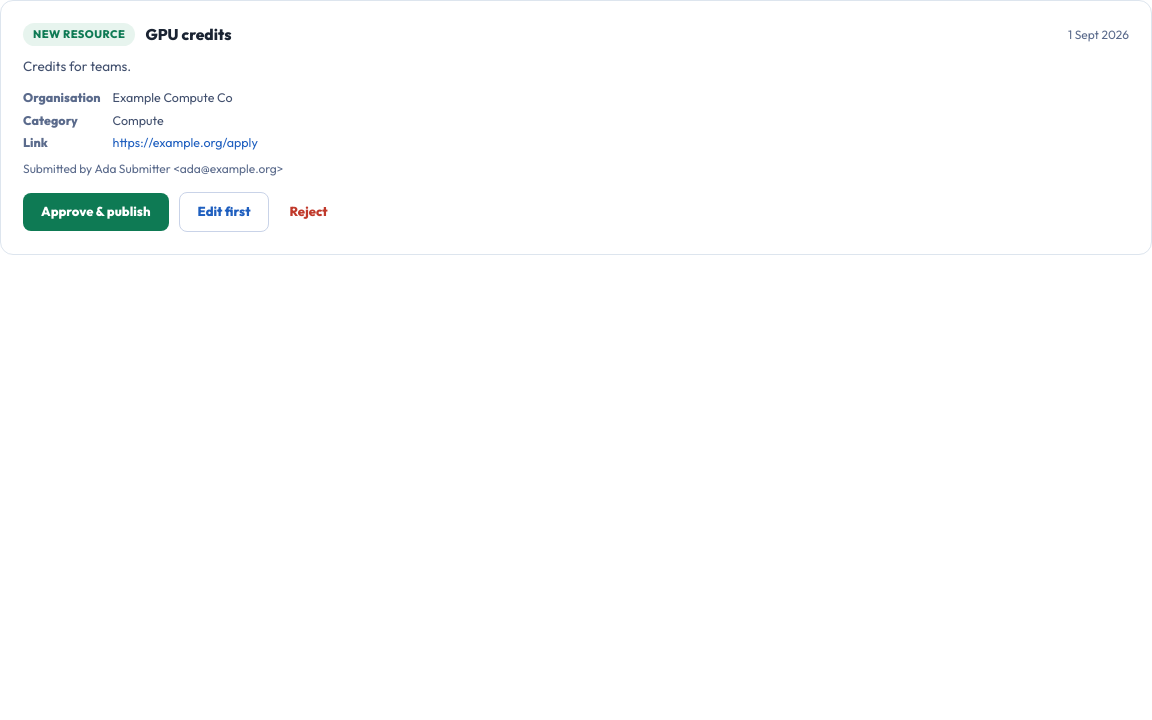
Test: ReviewCard › saving the Edit first form creates the resource from the submission and closes the dialog
Click the button "Edit first".
click(224, 212)  # box 179,192 -> 270,232
(page scrolled)
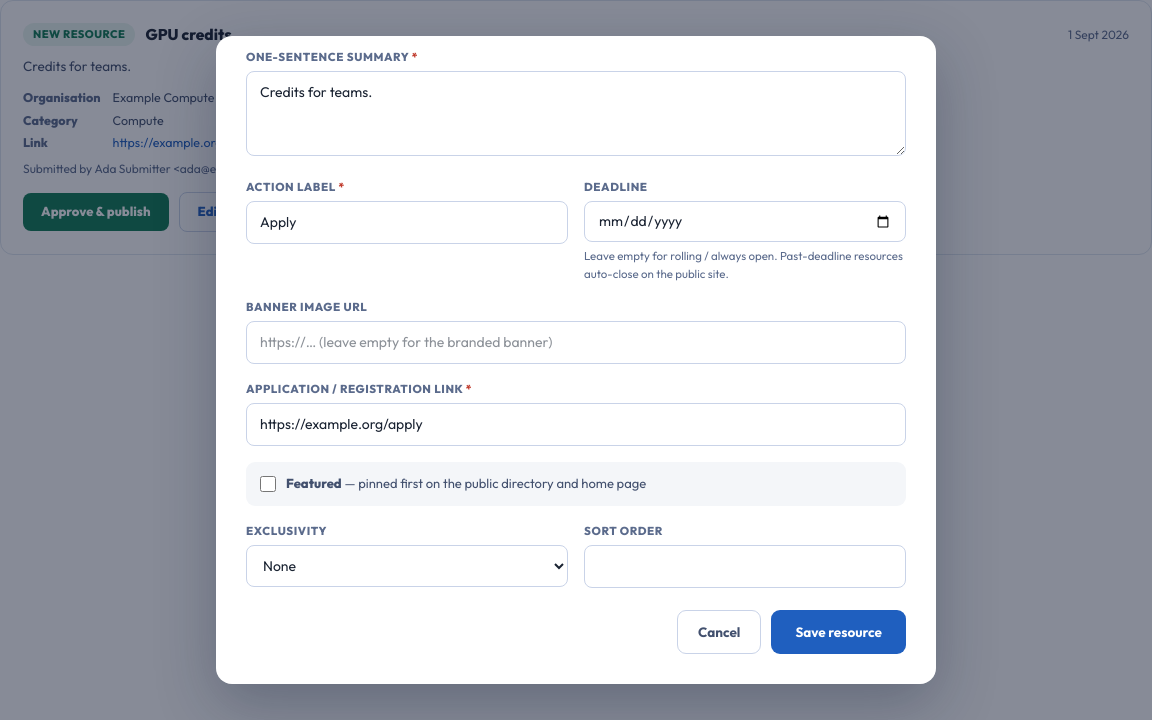
Click the button "Save resource".
click(839, 632)  # box 771,610 -> 906,654
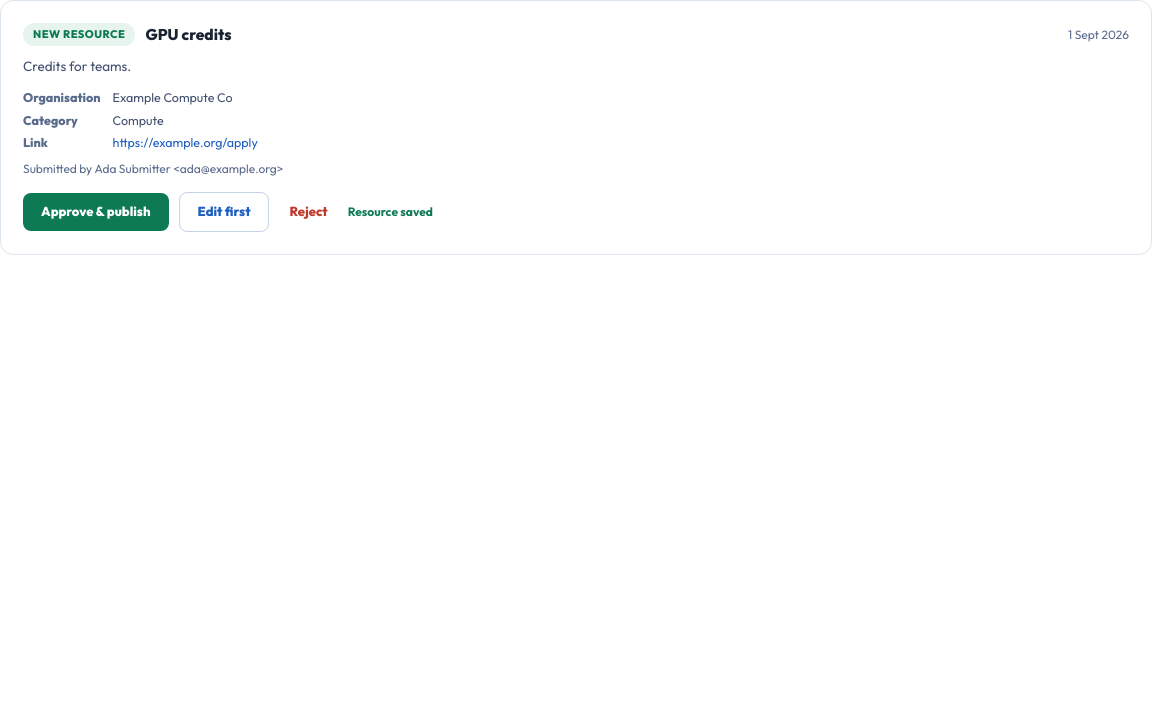
expect the text "Resource saved" is shown: met, box 348,203 -> 433,221
expect the dialog is gone: met
